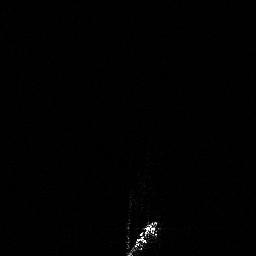ship: (122, 215, 163, 256)
